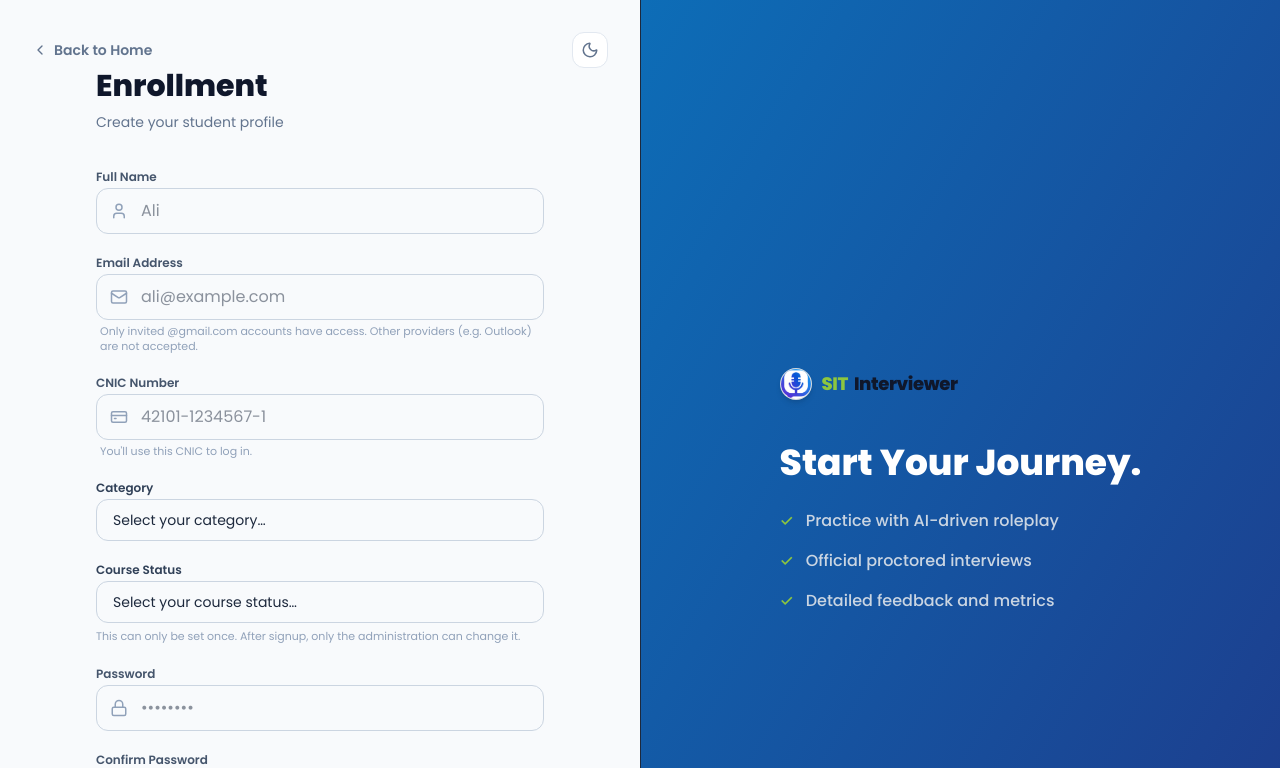
Test: enrolment form › replaces Course Status with a resume upload for this category
Expected: the dropdown labelled "Course Status" is shown, top-left (96, 581), bottom-right (544, 623)
Select "Resume-Based Interview" in the dropdown labelled "Category". click: (320, 520)
box: top-left (96, 499), bottom-right (544, 541)
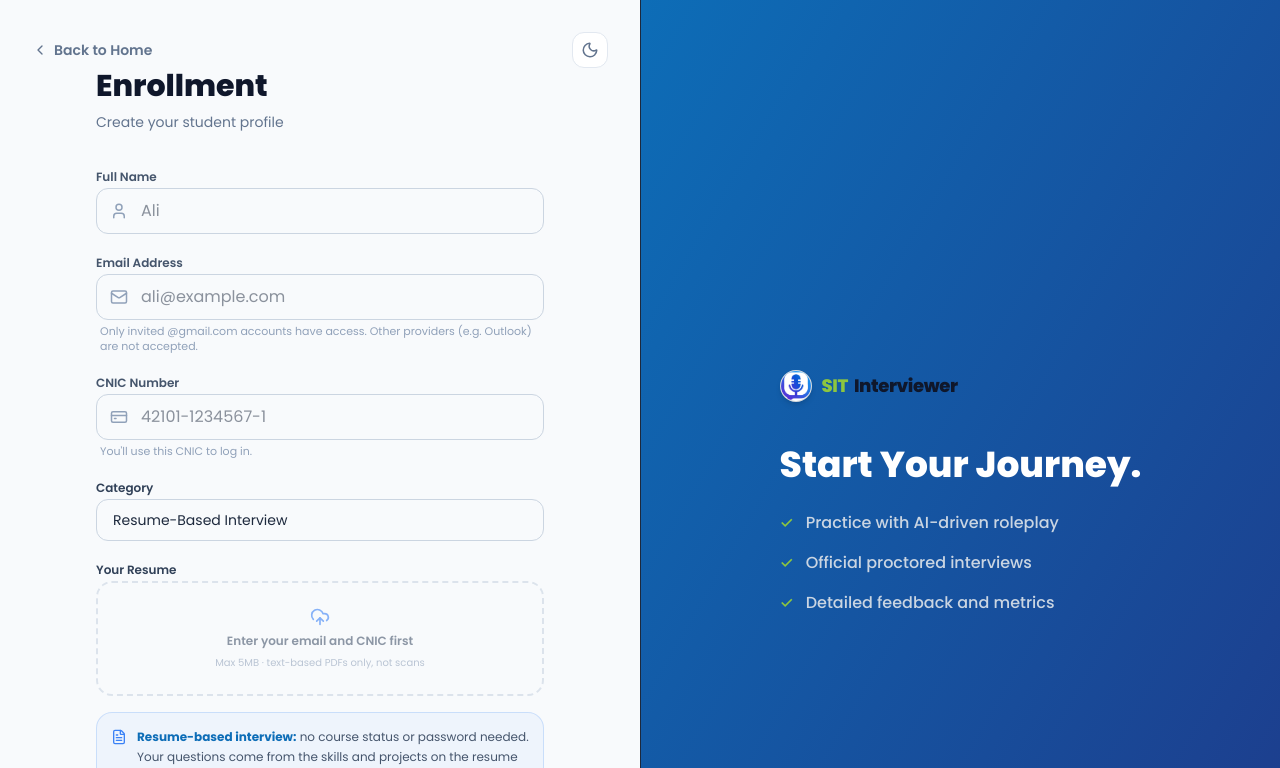
Expected: the text "Enter your email and CNIC first" is shown, top-left (227, 633), bottom-right (413, 649)
